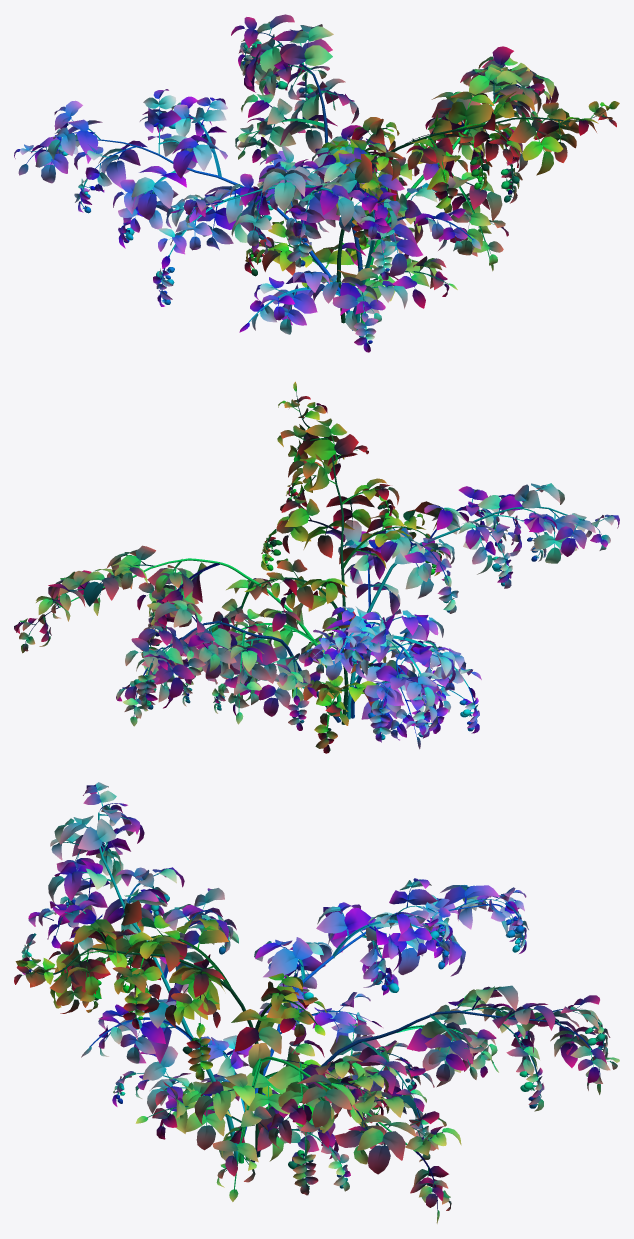
File: Raspberry_wf0oefeja_High_wf0oefeja_VarD_LOD0.fbx
3 views of the same model, one above another, from view 1: azimuth 30°, elevation 25°; view 2: azimuth 150°, elevation 25°; view 3: azimuth 270°, elevation 25° (orthographic). The views are drawn at different scales.
Visible parts, largest first — view 1: _gb3y_VarD_LOD0; view 2: _gb3y_VarD_LOD0; view 3: _gb3y_VarD_LOD0.
Part boxes in pixels (<box>): _gb3y_VarD_LOD0: <box>14,14,619,352</box>; _gb3y_VarD_LOD0: <box>14,381,619,753</box>; _gb3y_VarD_LOD0: <box>14,782,619,1223</box>.
Size of the model in its own units: 137 by 66.17 by 127.
